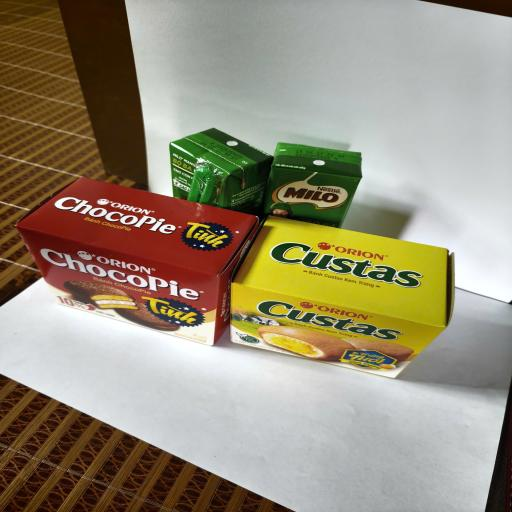chocopie: (15, 177, 259, 346)
custas: (228, 216, 454, 378)
milo: (170, 128, 274, 216), (264, 143, 363, 229)
